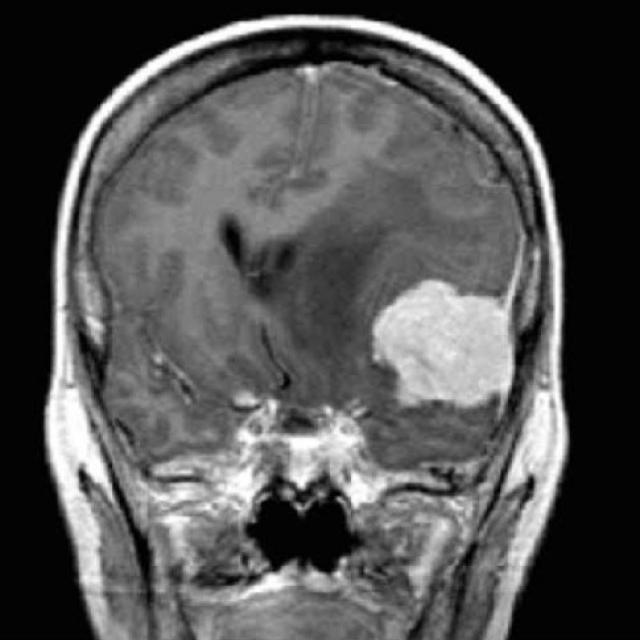Meningioma: (372, 279, 511, 408)
